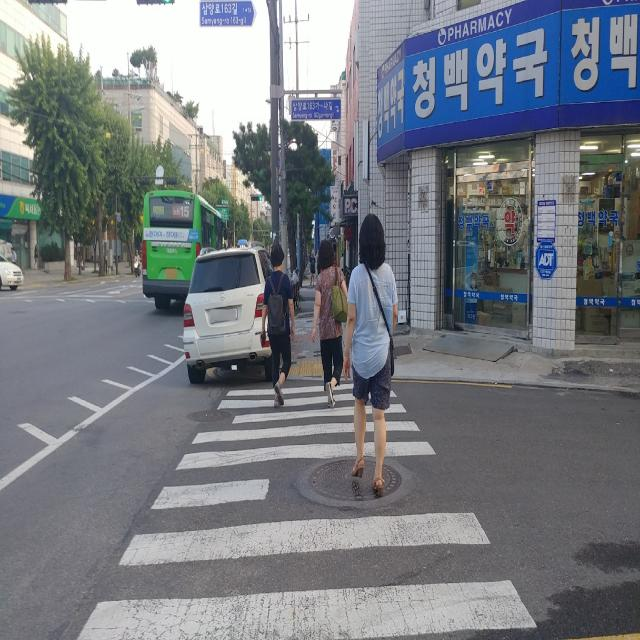횡단보도: (76, 384, 537, 640)
